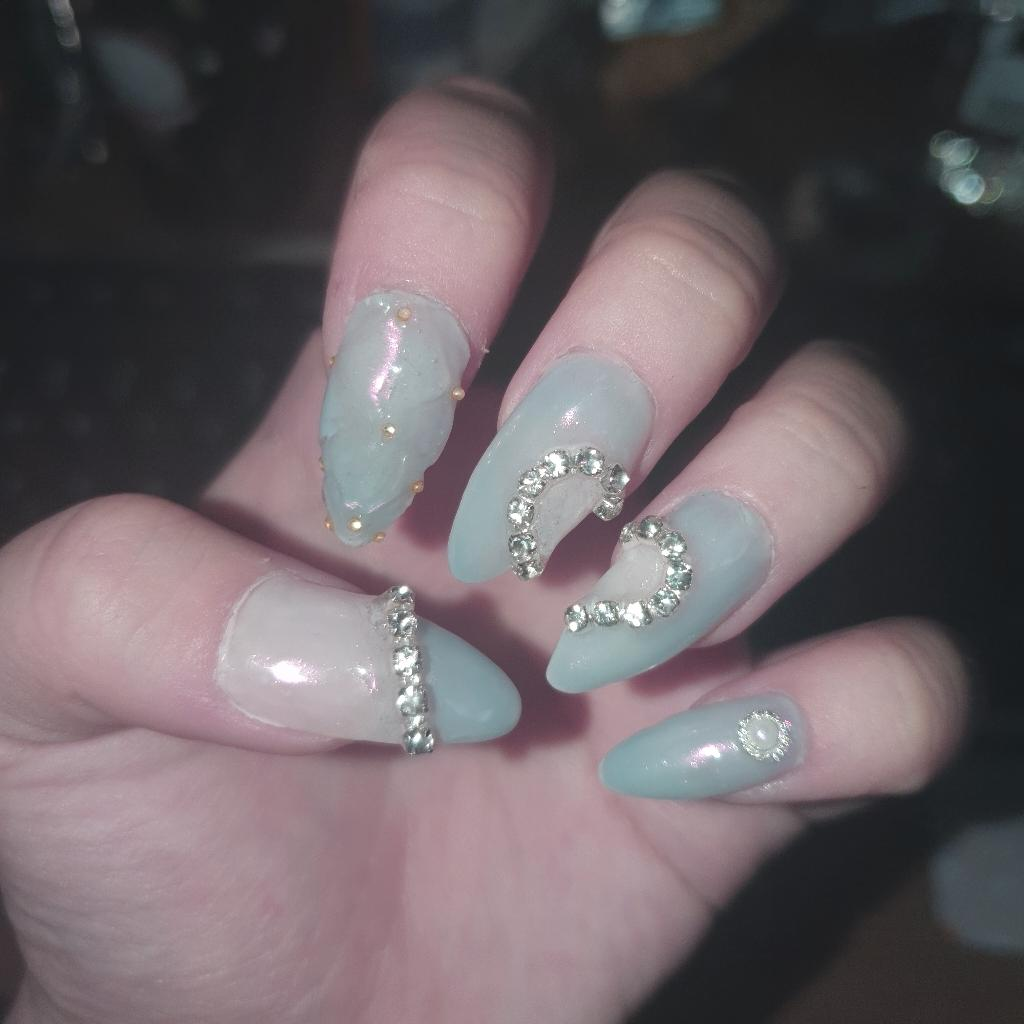nail: (445, 164, 783, 584), (543, 335, 908, 695), (315, 72, 556, 548), (212, 569, 522, 755), (316, 286, 471, 547), (597, 691, 808, 801)
